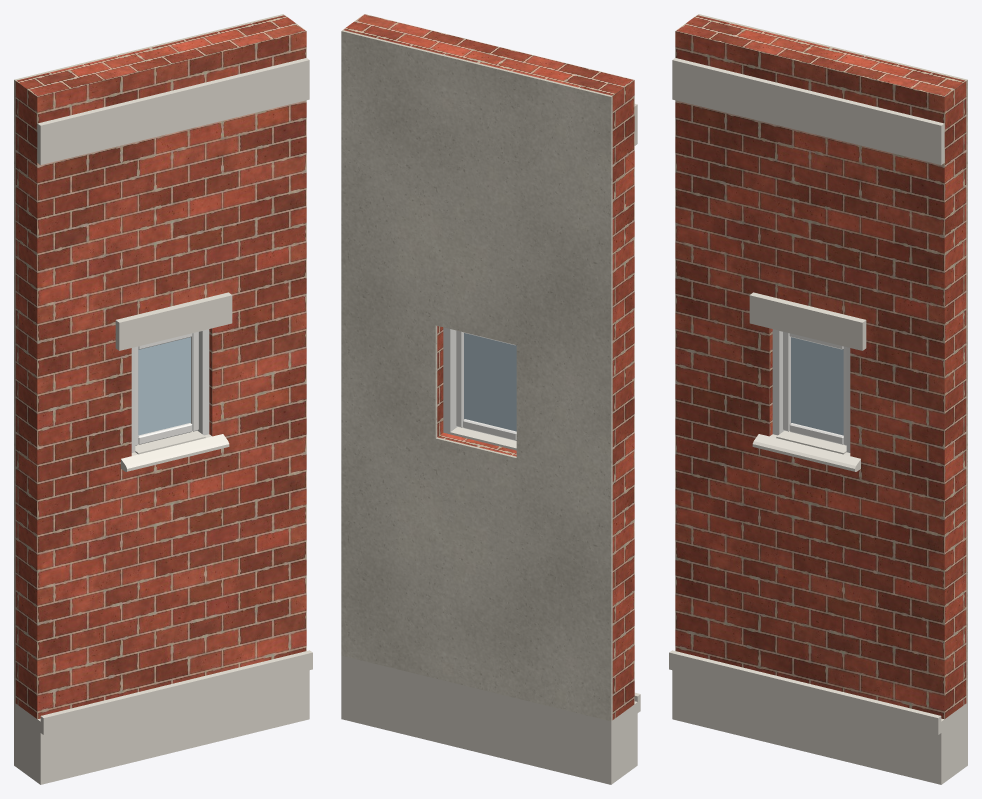
Rendered from wall_small.glb.
3 views of the same model, side by side, from view 1: azimuth 30°, elevation 25°; view 2: azimuth 150°, elevation 25°; view 3: azimuth 330°, elevation 25° (orthographic).
Parts seen in each view (by area): view 1: wall_small_brick, wall_small_lime, wall_small_glass, wall_small_trim, wall_small_sash, wall_small_plaster, wall_small_frame; view 2: wall_small_plaster, wall_small_brick, wall_small_lime, wall_small_glass, wall_small_frame, wall_small_sash, wall_small_trim; view 3: wall_small_brick, wall_small_lime, wall_small_glass, wall_small_trim, wall_small_sash, wall_small_plaster, wall_small_frame.
Part boxes in pixels (box(x1,y1,x2,y2)): wall_small_brick: box(15, 15, 306, 719); wall_small_lime: box(14, 58, 312, 784); wall_small_glass: box(138, 337, 190, 435); wall_small_trim: box(121, 430, 229, 471); wall_small_sash: box(135, 332, 198, 445); wall_small_plaster: box(14, 14, 284, 702); wall_small_frame: box(131, 329, 209, 452); wall_small_plaster: box(341, 30, 612, 721); wall_small_brick: box(343, 14, 634, 719); wall_small_lime: box(341, 104, 640, 784); wall_small_glass: box(464, 333, 516, 431); wall_small_frame: box(443, 327, 457, 434); wall_small_sash: box(456, 330, 516, 440); wall_small_trim: box(450, 427, 516, 450); wall_small_brick: box(675, 15, 966, 719); wall_small_lime: box(669, 58, 967, 784); wall_small_glass: box(791, 337, 843, 435); wall_small_trim: box(752, 430, 860, 471); wall_small_sash: box(783, 332, 846, 445); wall_small_plaster: box(697, 14, 967, 702); wall_small_frame: box(772, 329, 850, 452).
Size of the model in its own units: 2 by 4.87 by 0.38.
7 materials, 2 textured.
